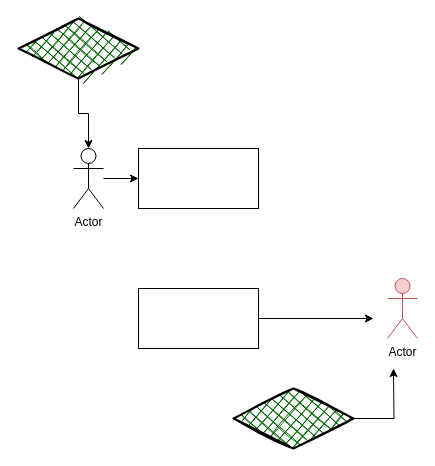
This 435x466 diagram has some shape labels left out. Each missing label, with the centre of its shape:
"借貸" goes at pixel 198 318.
"充錢、拿利息" goes at pixel 198 178.
